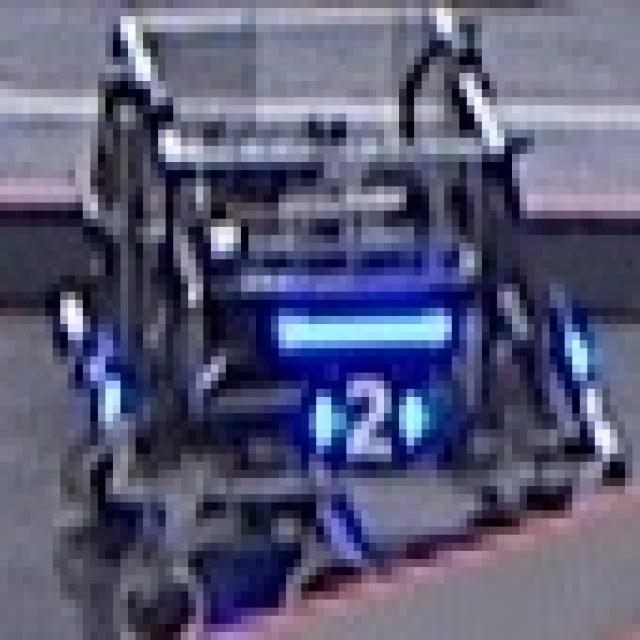B2: (301, 364, 429, 454)
